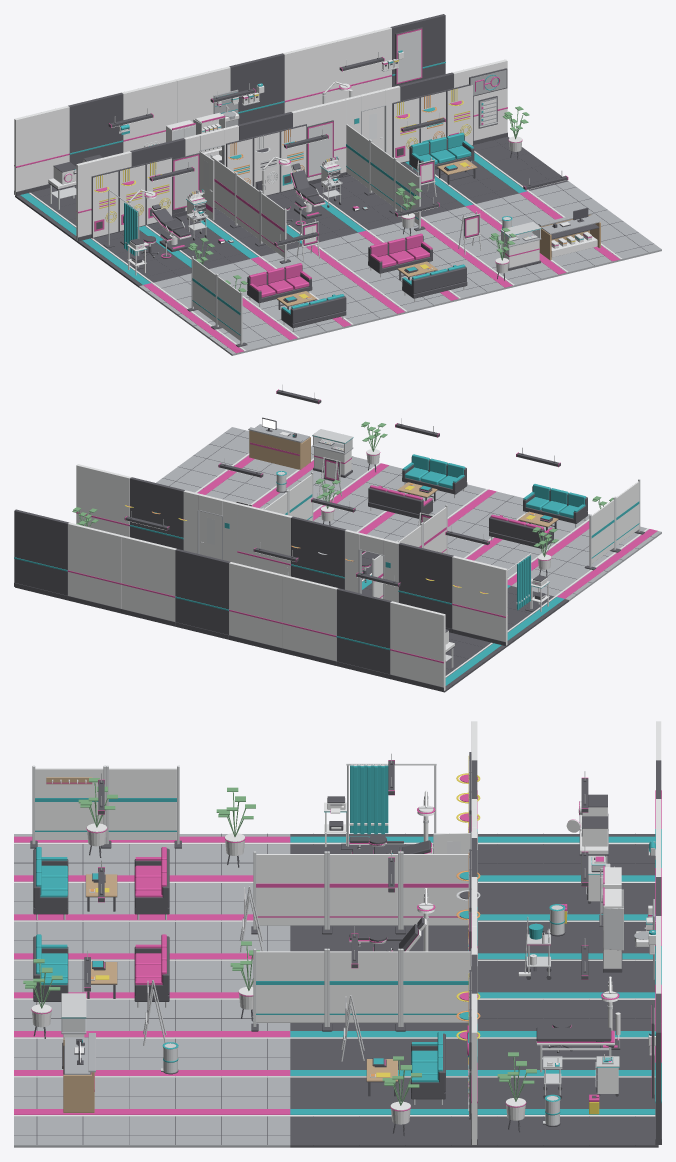
The model's file is tattoo-and-piercing-studio-tattoo-studio-858ca7b3-starter-scene__34565.glb.
3 renders of one model, top to bottom at view 1: azimuth 30°, elevation 25°; view 2: azimuth 150°, elevation 25°; view 3: azimuth 270°, elevation 25°, orthographic. The views are drawn at different scales.
Visible parts, largest first — view 1: 056-studio-wall-module/0, 061-studio-wall-module/0, 057-studio-wall-module-dark/0, 062-studio-wall-module/0, 058-studio-wall-module/0, 060-studio-wall-module-dark/0, 059-studio-wall-module/0, 063-studio-wall-module-dark/0, 064-studio-wall-module/0, 068-studio-wall-module/0, 071-studio-wall-module/0, 069-studio-door-module/0 (+77 smaller); view 2: 057-studio-wall-module-dark/0, 063-studio-wall-module-dark/0, 060-studio-wall-module-dark/0, 056-studio-wall-module/0, 064-studio-wall-module/0, 058-studio-wall-module/0, 061-studio-wall-module/0, 062-studio-wall-module/0, 059-studio-wall-module/0, 065-studio-wall-module-dark/0, 067-studio-wall-module-dark/0, 071-studio-wall-module/0 (+40 smaller); view 3: 082-booth-divider-panel/2, 085-booth-divider-panel-teal/2, 081-booth-divider-panel/2, 154-booth-divider-panel-teal/2, 084-booth-divider-panel-teal/2, 083-booth-divider-panel-teal/2, 080-booth-divider-panel/2, 155-booth-divider-panel-teal/2, 052-studio-floor-tile-dark/0, 054-studio-floor-tile/0, 053-studio-floor-tile/0, 046-studio-floor-tile/0 (+72 smaller).
Boxes of the visible parts, x1,y1,x2,y2 form: 056-studio-wall-module/0: [14, 105, 69, 195]; 061-studio-wall-module/0: [283, 40, 338, 113]; 057-studio-wall-module-dark/0: [68, 92, 123, 166]; 062-studio-wall-module/0: [337, 27, 391, 100]; 058-studio-wall-module/0: [122, 79, 176, 152]; 060-studio-wall-module-dark/0: [229, 53, 284, 124]; 059-studio-wall-module/0: [175, 66, 230, 122]; 063-studio-wall-module-dark/0: [390, 14, 445, 86]; 064-studio-wall-module/0: [76, 151, 131, 240]; 068-studio-wall-module/0: [291, 98, 346, 181]; 071-studio-wall-module/0: [452, 59, 507, 140]; 069-studio-door-module/0: [345, 85, 400, 156]; 057-studio-wall-module-dark/0: [336, 588, 391, 678]; 063-studio-wall-module-dark/0: [14, 509, 69, 599]; 060-studio-wall-module-dark/0: [175, 549, 230, 638]; 056-studio-wall-module/0: [390, 601, 445, 690]; 064-studio-wall-module/0: [452, 556, 507, 645]; 058-studio-wall-module/0: [282, 575, 337, 661]; 061-studio-wall-module/0: [121, 535, 176, 621]; 062-studio-wall-module/0: [68, 522, 122, 608]; 059-studio-wall-module/0: [229, 562, 283, 647]; 065-studio-wall-module-dark/0: [398, 542, 453, 632]; 067-studio-wall-module-dark/0: [291, 516, 346, 589]; 071-studio-wall-module/0: [76, 464, 131, 536]; 082-booth-divider-panel/2: [256, 854, 324, 925]; 085-booth-divider-panel-teal/2: [256, 951, 324, 1022]; 081-booth-divider-panel/2: [330, 854, 397, 925]; 154-booth-divider-panel-teal/2: [109, 768, 176, 839]; 084-booth-divider-panel-teal/2: [330, 951, 397, 1022]; 083-booth-divider-panel-teal/2: [403, 951, 470, 1022]; 080-booth-divider-panel/2: [403, 854, 468, 925]; 155-booth-divider-panel-teal/2: [35, 768, 103, 839]; 052-studio-floor-tile-dark/0: [290, 1106, 382, 1147]; 054-studio-floor-tile/0: [106, 1106, 198, 1147]; 053-studio-floor-tile/0: [198, 1106, 290, 1147]; 046-studio-floor-tile/0: [198, 1067, 290, 1106].
Size of the model in its own units: 16 by 2.87 by 14.07.
